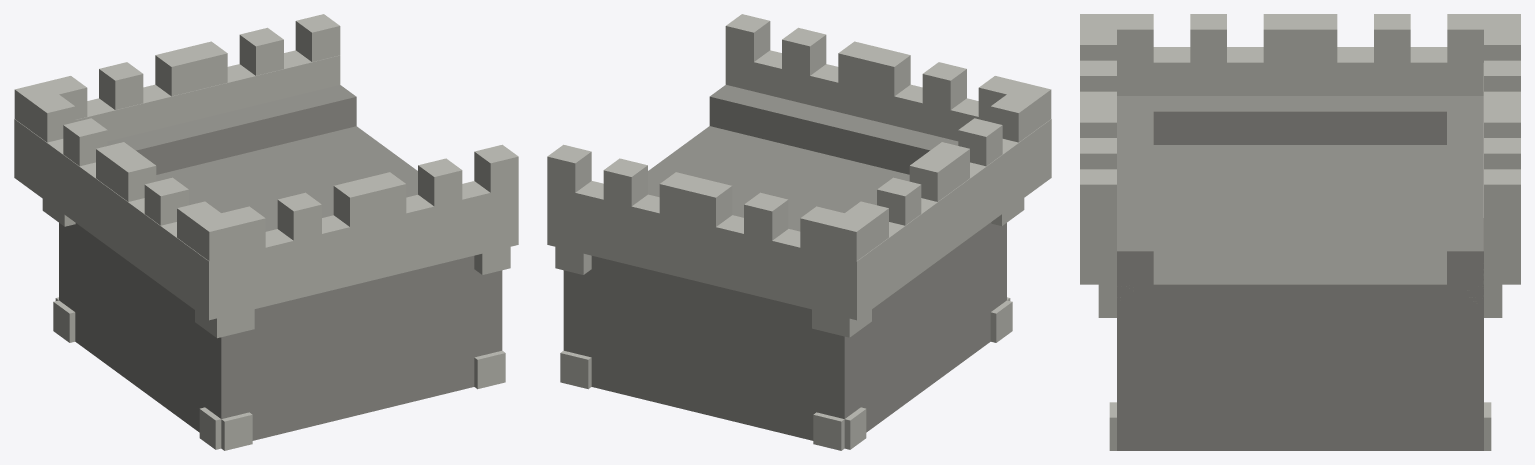
File: 1x1x5_threesided.fbx
The picture shows the model from 3 angles, left to right: view 1: azimuth 30°, elevation 25°; view 2: azimuth 150°, elevation 25°; view 3: azimuth 270°, elevation 25°; orthographic projection. The views are drawn at different scales.
Parts seen in each view (by area): view 1: polySurface10; view 2: polySurface10; view 3: polySurface10.
Part boxes in pixels (box(x1,y1,x2,y2)): polySurface10: box(14, 14, 518, 450); polySurface10: box(547, 14, 1051, 450); polySurface10: box(1080, 14, 1520, 450).
Size of the model in its own units: 110 by 80 by 120.
Materials: 1 (1 with a texture image).
